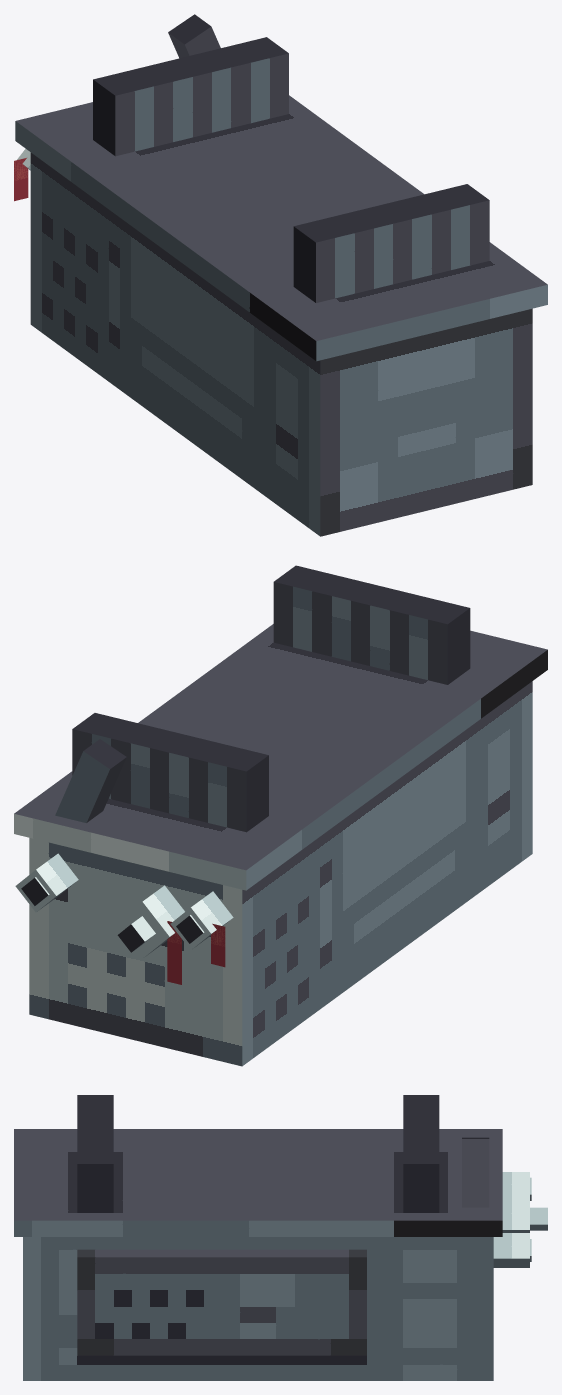
File: vacuum_toilet_2.obj
The picture shows the model from 3 angles, top to bottom: view 1: azimuth 30°, elevation 25°; view 2: azimuth 150°, elevation 25°; view 3: azimuth 270°, elevation 25°; orthographic projection. The views are drawn at different scales.
Visible parts, largest first — view 1: cube; view 2: cube; view 3: cube.
Part boxes in pixels (x1,y1,x2,y2): cube: (14,14,547,536); cube: (14,565,547,1066); cube: (14,1095,547,1380).
Bounding box in the file's own units: 0.7812 × 0.845 × 1.84.
